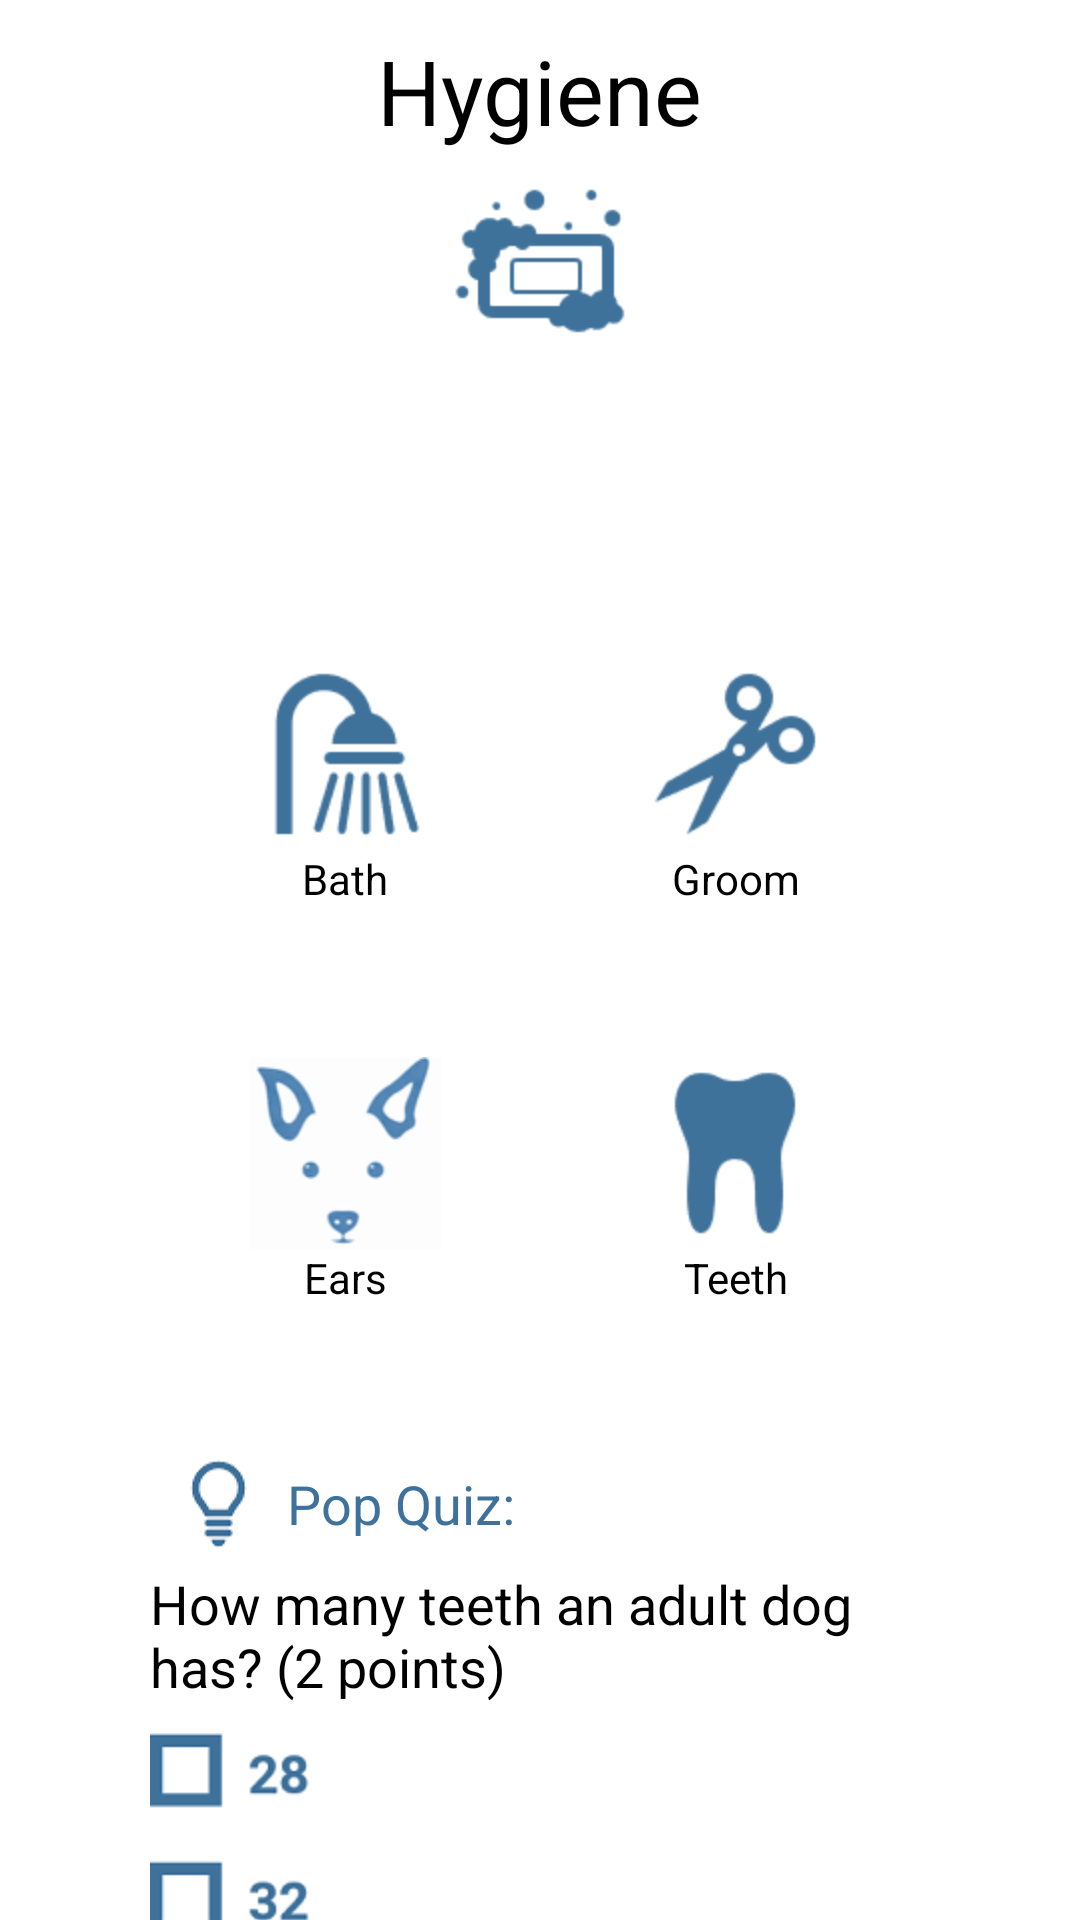

Named icons in this screenshot (1080*1920) and their centers, [x,y]:
care lamp: [218,1504]
